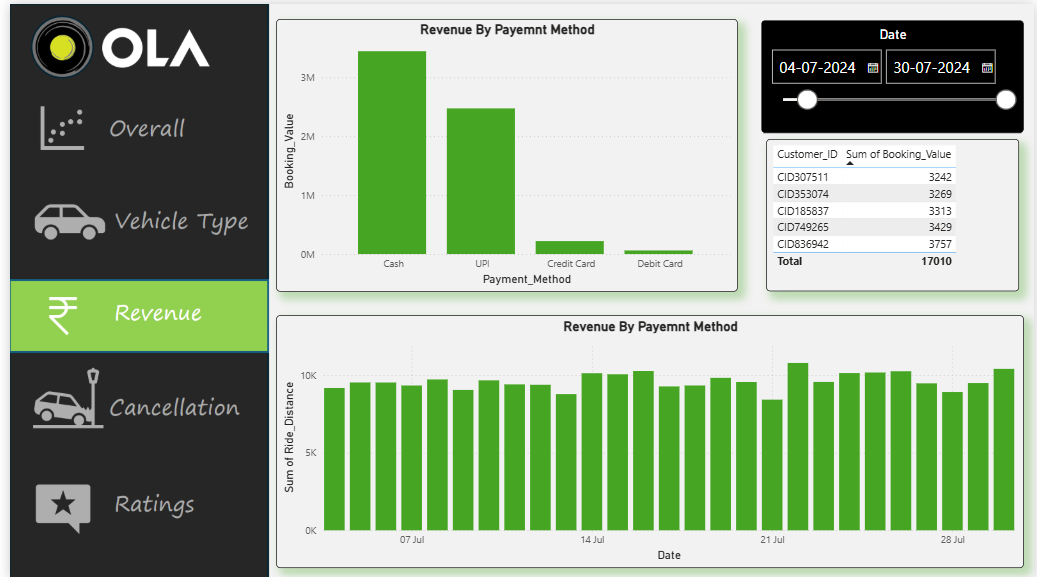

What the dashboard file says about the page in this screenshot:
{"tool":"powerbi","page":{"name":"Revenue","canvas":[1280,720],"ordinal":2},"visuals":[{"type":"actionButton","box":[0,115.6,332.8,73.4],"z":0},{"type":"actionButton","box":[0,212.5,332.8,107.8],"z":1000},{"type":"actionButton","box":[0,460.9,320.3,85.9],"z":2000},{"type":"actionButton","box":[0,581.2,320.3,98.4],"z":3000},{"type":"columnChart","title":"Revenue By Payemnt Method","fields":{"Category":["Sheet1.Payment_Method"],"Y":["Sum(Sheet1.Booking_Value)"]},"box":[332.8,18.8,576.6,340.6],"z":3001},{"type":"columnChart","title":"Revenue By Payemnt Method","fields":{"Y":["Sum(Sheet1.Ride_Distance)"],"Category":["Sheet1.Date"]},"box":[333.4,389.7,934.5,315.6],"z":3002},{"type":"slicer","title":"Date","fields":{"Values":["Sheet1.Date"]},"box":[939.1,20.3,328.1,140.6],"z":3003},{"type":"tableEx","fields":{"Values":["Sheet1.Customer_ID","Sum(Sheet1.Booking_Value)"]},"box":[945.3,168.8,315.6,190.6],"z":3004}]}

Visuals, with their boxes in screenshot pixels (x1, y1, x2, y2), scaled from the page's 1280x720 canvas onto the 1037x577 screenshot:
actionButton: locate(0, 93, 270, 151)
actionButton: locate(0, 170, 270, 257)
actionButton: locate(0, 369, 259, 438)
actionButton: locate(0, 466, 259, 545)
"Revenue By Payemnt Method" columnChart: locate(270, 15, 737, 288)
"Revenue By Payemnt Method" columnChart: locate(270, 312, 1027, 565)
"Date" slicer: locate(761, 16, 1027, 129)
tableEx - Sheet1.Customer_ID x Sum(Sheet1.Booking_Value): locate(766, 135, 1022, 288)
